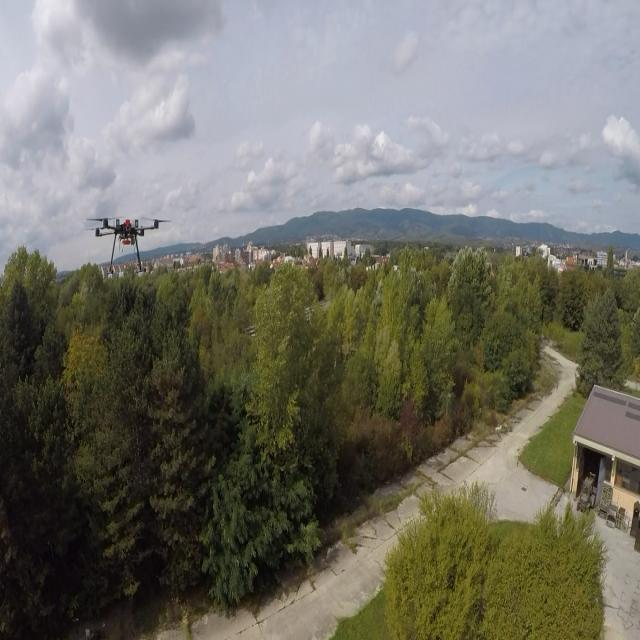UAV: (84, 211, 174, 281)
